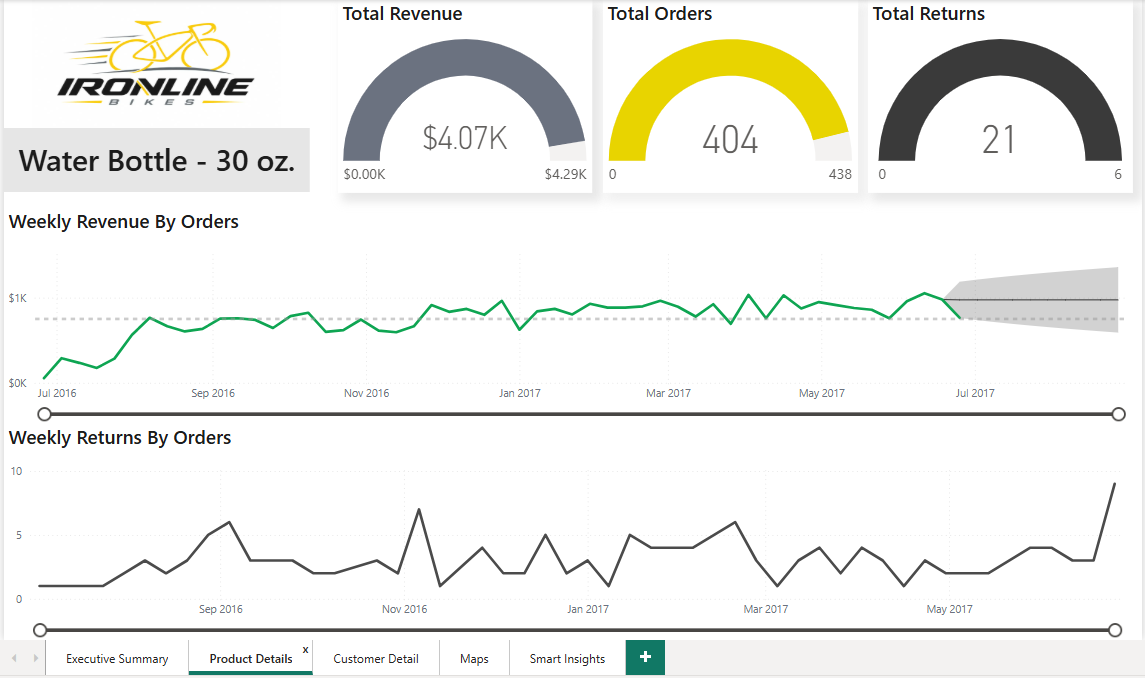

The dashboard page shown, as its layout file describes it:
{"tool":"powerbi","page":{"name":"Product Details","canvas":[1280,720],"ordinal":1},"visuals":[{"type":"lineChart","title":"Weekly Returns By Orders","fields":{"Category":["Calendar_lookups.Start of Week"],"Y":["Returns Data.Total Returns"]},"box":[0,477.3,1280.5,242.7],"z":0},{"type":"lineChart","title":"Weekly Revenue By Orders","fields":{"Category":["Calendar_lookups.Start of Week"],"Y":["Sales Data.Total Revenue"]},"box":[0,234.3,1280.5,242.7],"z":1000},{"type":"gauge","title":"Total Revenue","fields":{"Y":["Sales Data.Total Revenue"],"MaxValue":["Sales Data.Revenue Target"]},"box":[375.9,0,285.5,216.9],"z":2000},{"type":"gauge","title":"Total Orders","fields":{"Y":["Sales Data.Total Orders"],"MaxValue":["Sales Data.Order Target"]},"box":[673.5,0,286.7,216.9],"z":3000},{"type":"gauge","title":"Total Returns","fields":{"Y":["Returns Data.Total Returns"],"MaxValue":["Returns Data.Prev Month Returns"]},"box":[972.3,0,297.6,216.9],"z":4000},{"type":"card","fields":{"Values":["Min(Products_lookups.ProductName)"]},"box":[0,144,343.9,72.3],"z":5000},{"type":"image","box":[31.5,0,280.1,144],"z":6000}]}

Visuals, with their boxes on the page's 1280x720 design canvas (x1, y1, x2, y2). These are canvas units, not pixel positions in the 1145x678 screenshot, which may show the page scaled, cropped or inside an application window:
"Weekly Returns By Orders" lineChart: 0/477/1280/720
"Weekly Revenue By Orders" lineChart: 0/234/1280/477
"Total Revenue" gauge: 376/0/661/217
"Total Orders" gauge: 674/0/960/217
"Total Returns" gauge: 972/0/1270/217
card - Min(Products_lookups.ProductName): 0/144/344/216
image: 32/0/312/144
